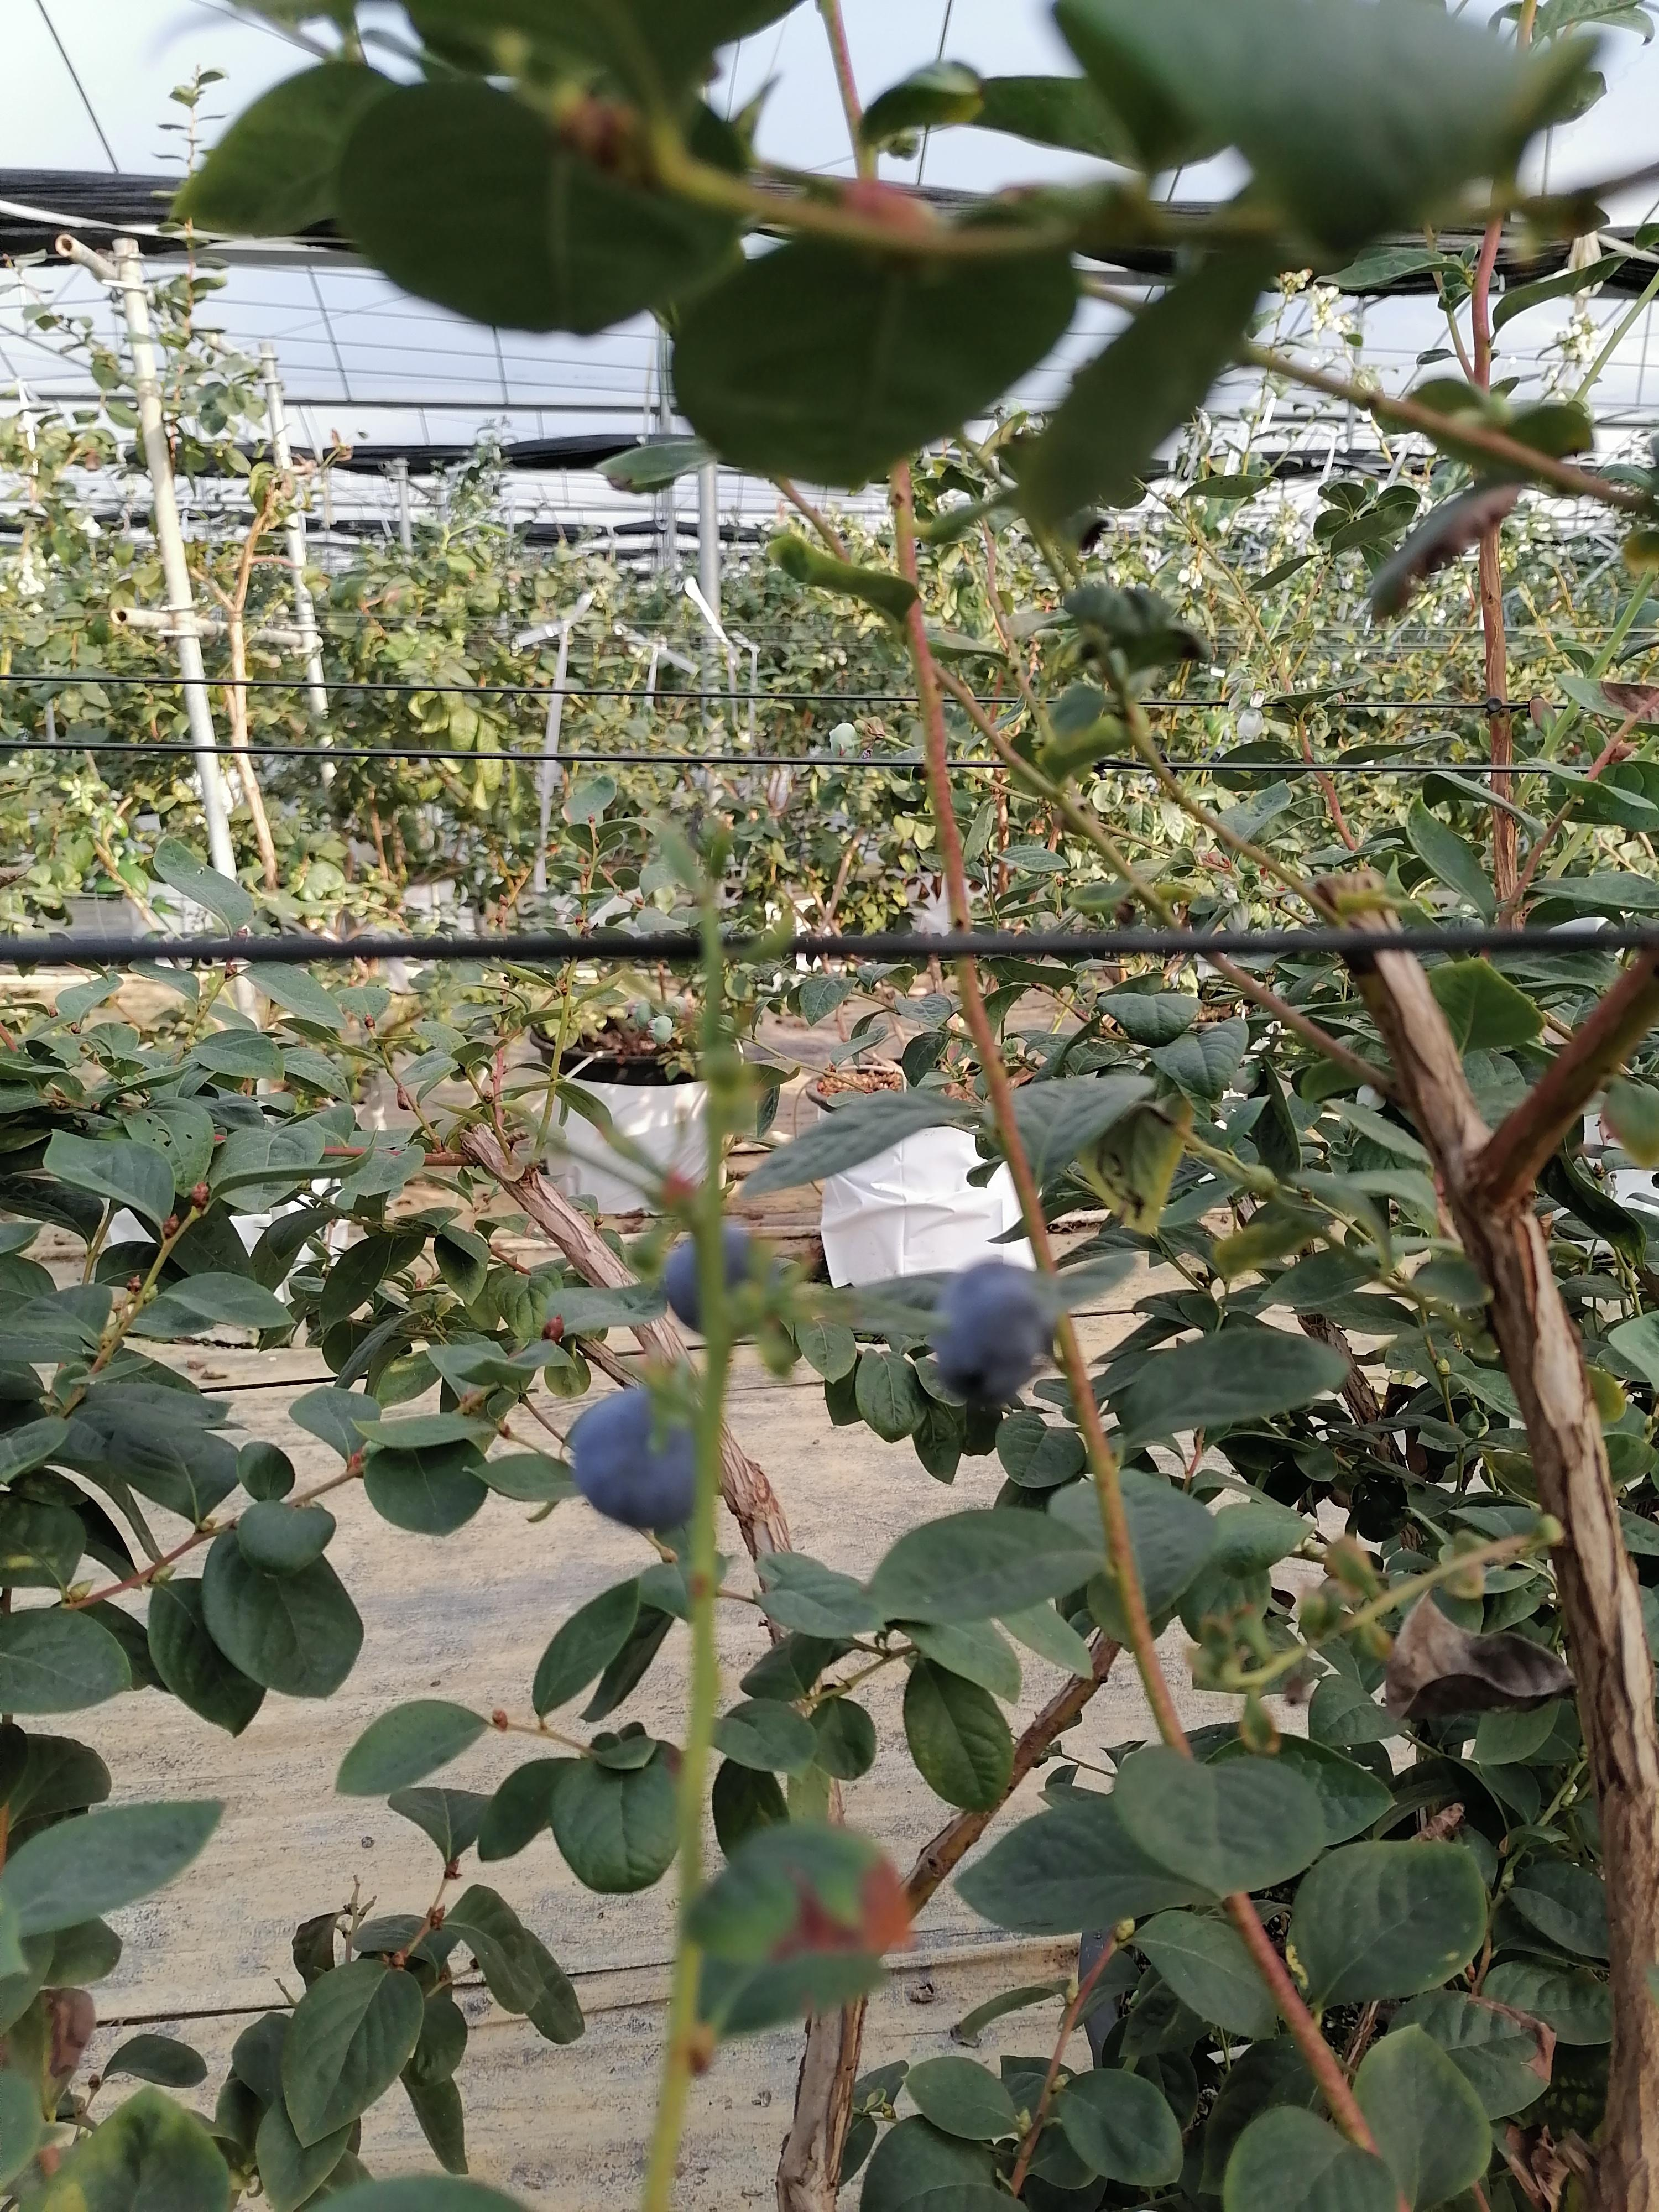ripe-blueberries: (570, 1390, 706, 1529), (936, 1263, 1065, 1406), (669, 1230, 779, 1339)
